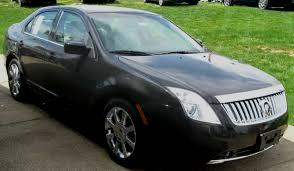Mercury: (256, 95, 279, 119)
